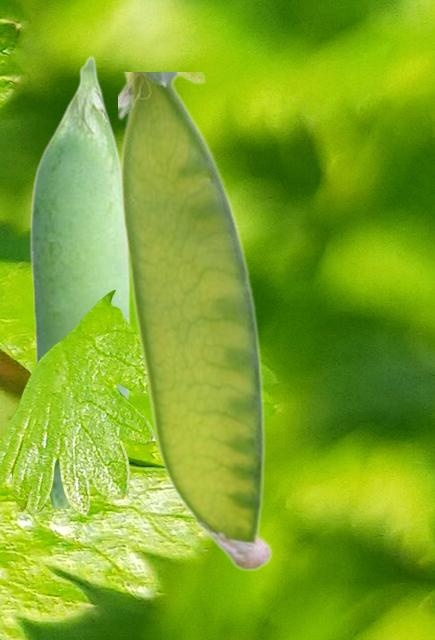pea: (118, 72, 272, 569), (29, 55, 129, 507)
